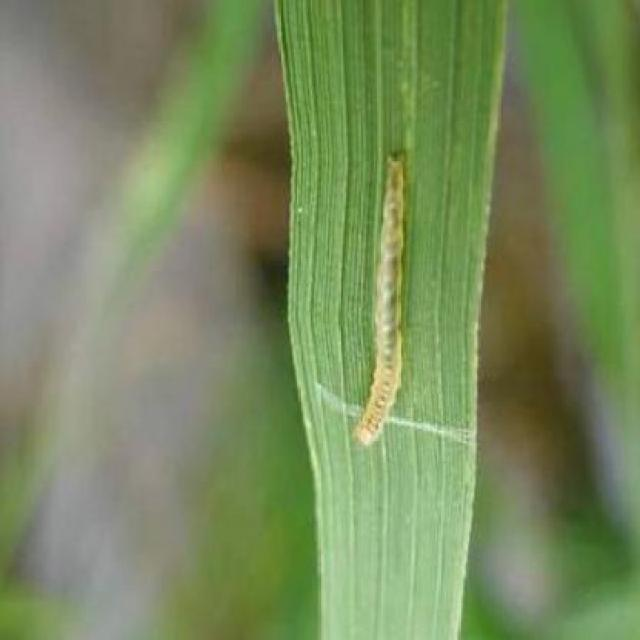leaf-folder: (361, 130, 408, 478)
